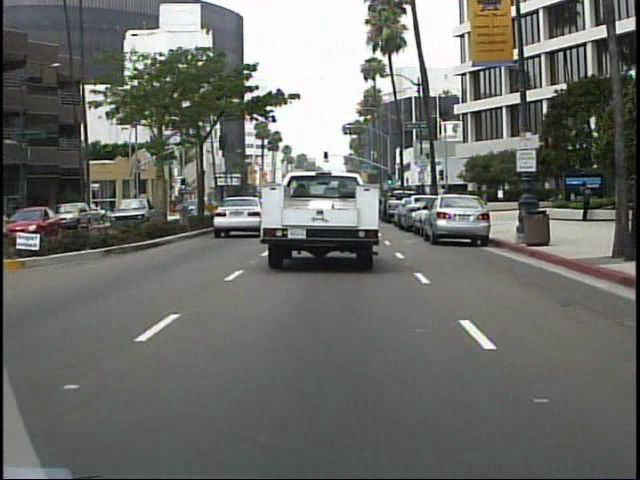person: (580, 178, 597, 225)
